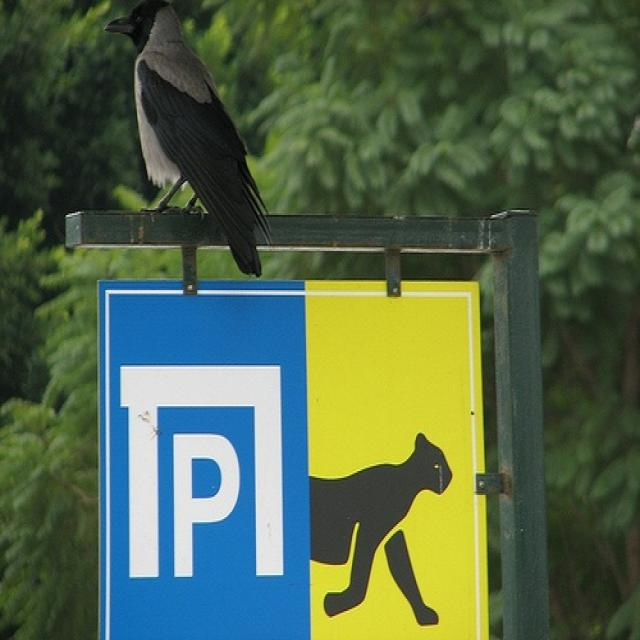bird: (104, 0, 272, 280)
